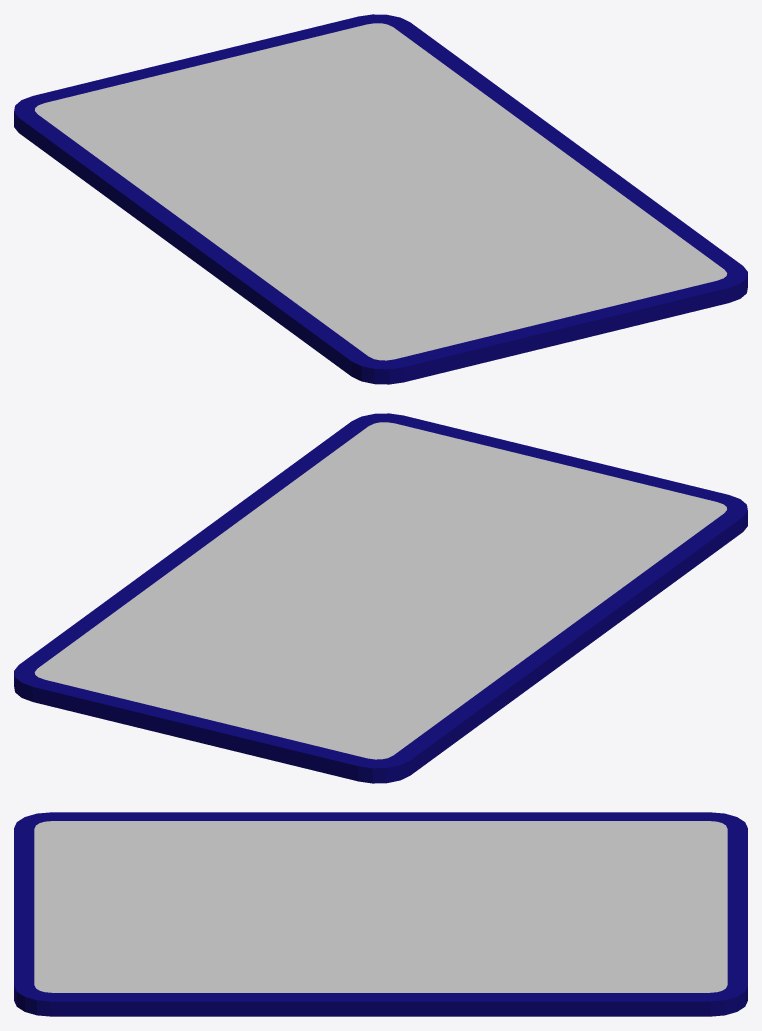
Rendered from Playercard (5).fbx.
3 views of the same model, one above another, from view 1: azimuth 30°, elevation 25°; view 2: azimuth 150°, elevation 25°; view 3: azimuth 270°, elevation 25° (orthographic).
Visible parts, largest first — view 1: Card.001; view 2: Card.001; view 3: Card.001.
Boxes of the visible parts, <box> form: Card.001: <box>14,14,747,384</box>; Card.001: <box>14,413,747,783</box>; Card.001: <box>14,812,747,1016</box>.
Size of the model in its own units: 1.65 by 2.71 by 0.0616.
